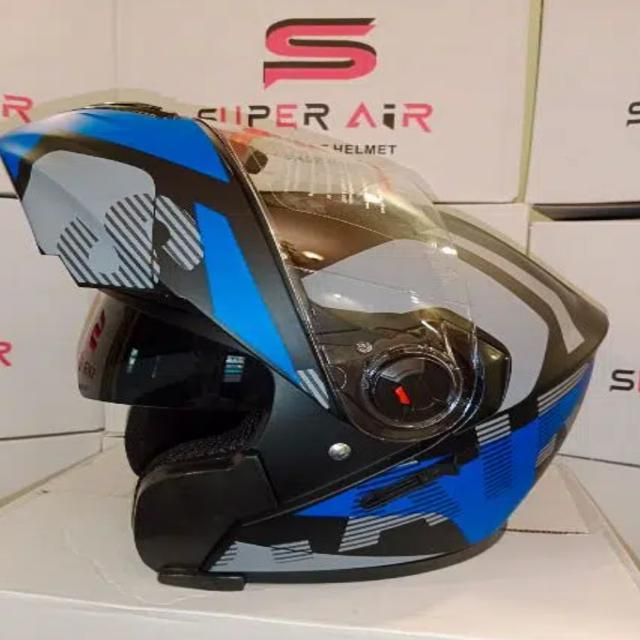Helmet: (14, 20, 580, 640)
